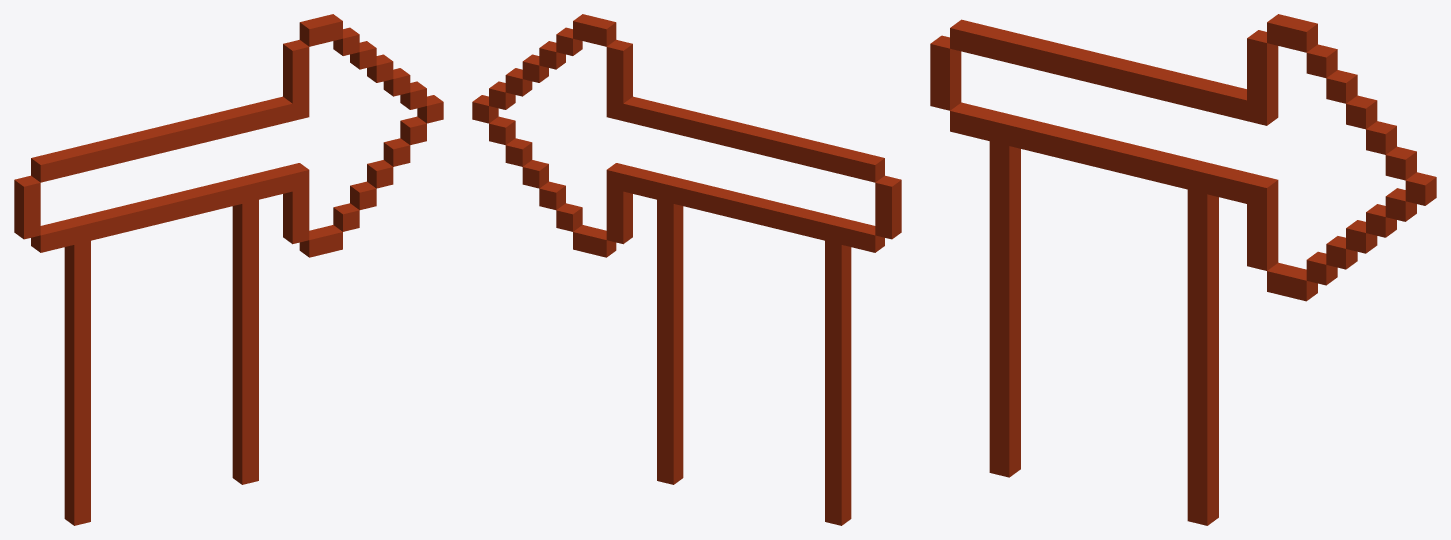
The model's file is Arrow-0.obj.
3 renders of one model, left to right at view 1: azimuth 30°, elevation 25°; view 2: azimuth 150°, elevation 25°; view 3: azimuth 330°, elevation 25°, orthographic. The views are drawn at different scales.
Visible parts, largest first — view 1: Arrow-0; view 2: Arrow-0; view 3: Arrow-0.
Part boxes in pixels (<box>): Arrow-0: <box>14,14,443,525</box>; Arrow-0: <box>472,14,901,525</box>; Arrow-0: <box>930,14,1436,525</box>.
Size of the model in its own units: 25 by 25 by 1.
Materials: 1 (1 with a texture image).
